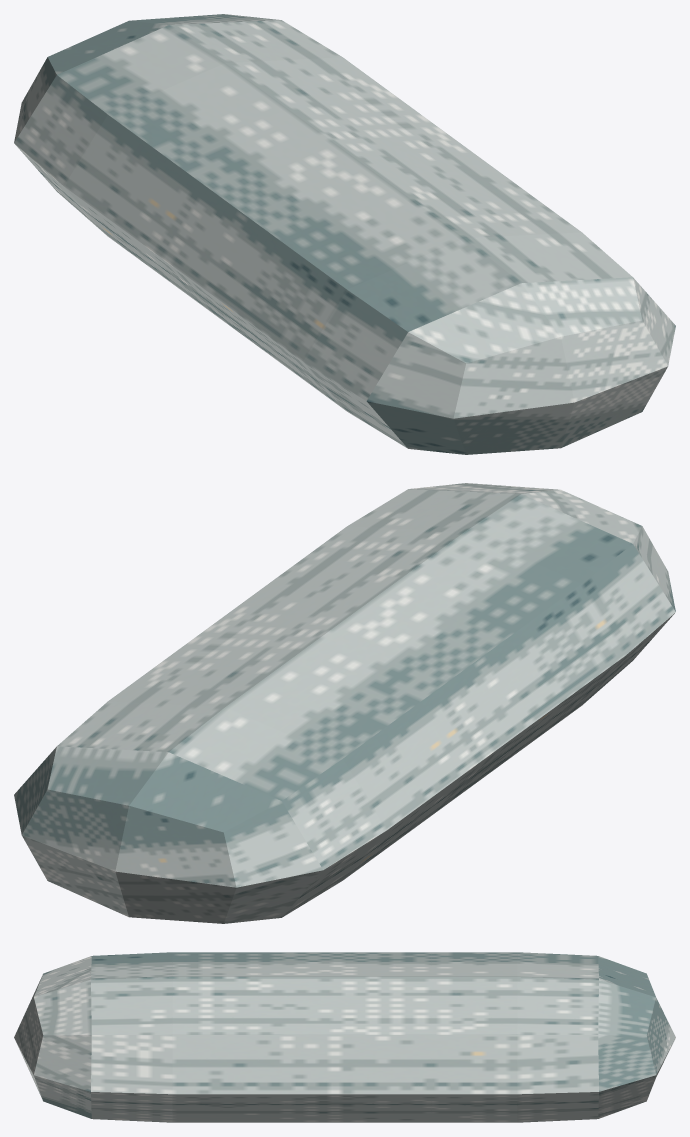
File: bunkbed_pillow.glb
3 renders of one model, top to bottom at view 1: azimuth 30°, elevation 25°; view 2: azimuth 150°, elevation 25°; view 3: azimuth 270°, elevation 25°, orthographic. The views are drawn at different scales.
Visible parts, largest first — view 1: Cube.004; view 2: Cube.004; view 3: Cube.004.
Part boxes in pixels (x1=…): Cube.004: x1=14, y1=14, x2=675, y2=454; Cube.004: x1=14, y1=483, x2=675, y2=923; Cube.004: x1=14, y1=952, x2=675, y2=1122.
Bounding box in the file's own units: 0.4134 × 0.2052 × 1.02.
Materials: 1 (1 with a texture image).
